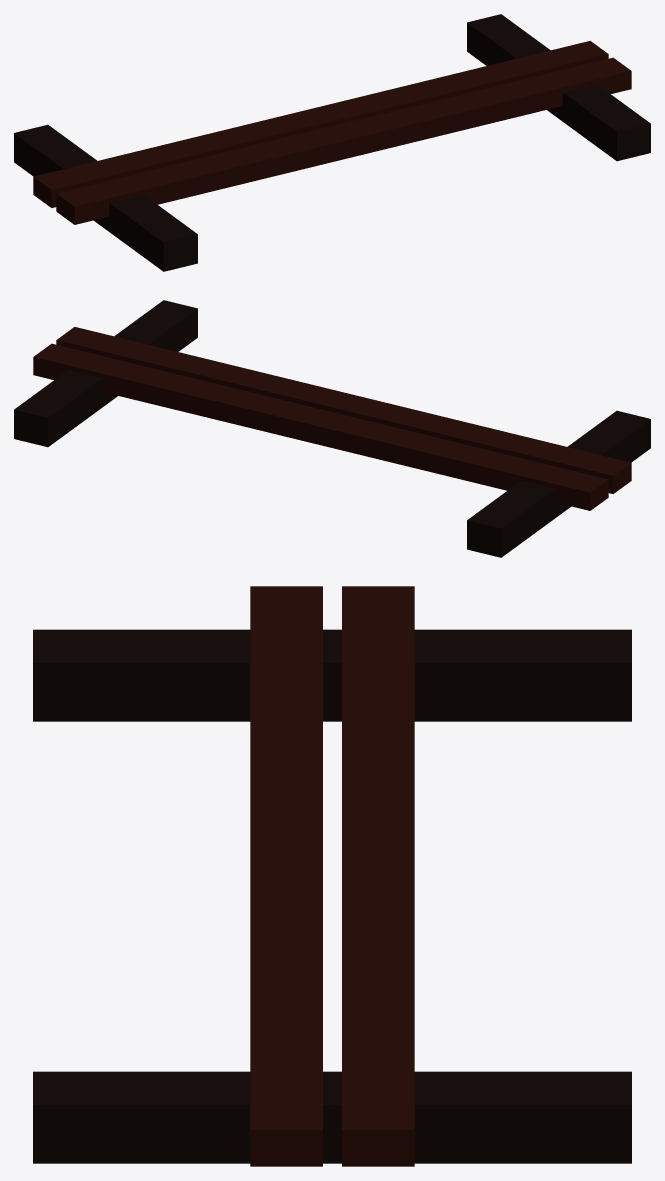
Rendered from tablas_larga.fbx.
The picture shows the model from 3 angles, top to bottom: view 1: azimuth 30°, elevation 25°; view 2: azimuth 150°, elevation 25°; view 3: azimuth 270°, elevation 25°; orthographic projection. The views are drawn at different scales.
Visible parts, largest first — view 1: tablas_larga; view 2: tablas_larga; view 3: tablas_larga.
Boxes of the visible parts, box(x1,y1,x2,y2) form: tablas_larga: box(14, 14, 650, 271); tablas_larga: box(14, 300, 650, 557); tablas_larga: box(33, 586, 631, 1166).
Bounding box in the file's own units: 859 × 50 × 400.
